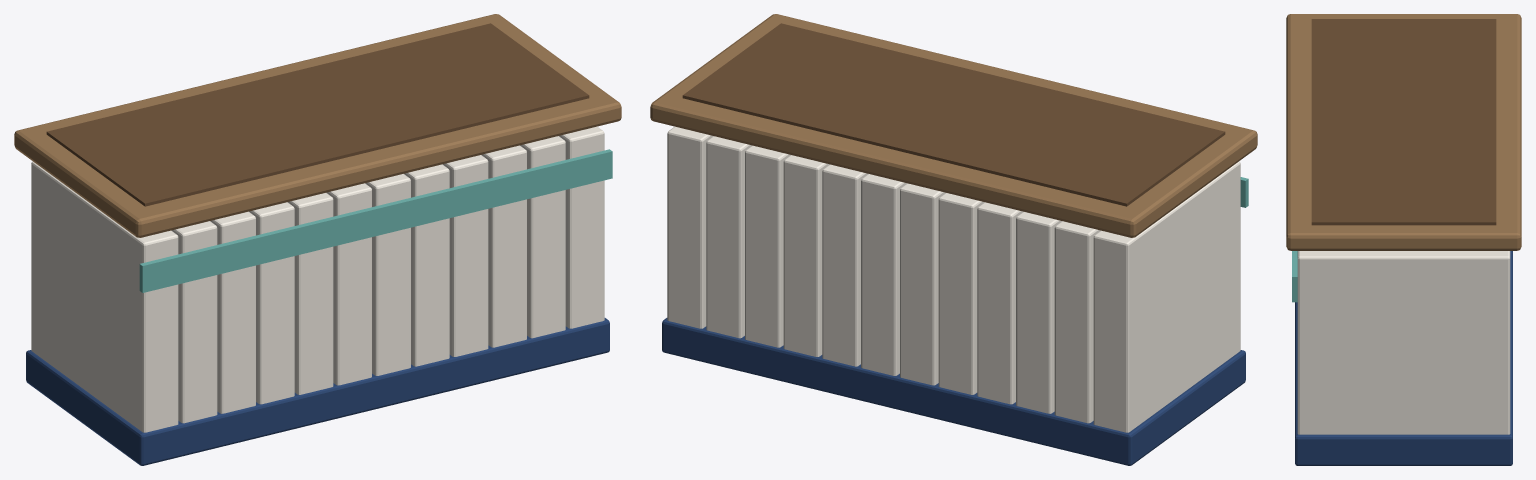
File: b_counter_teal.gltf
3 views of the same model, side by side, from view 1: azimuth 30°, elevation 25°; view 2: azimuth 150°, elevation 25°; view 3: azimuth 270°, elevation 25° (orthographic). The views are drawn at different scales.
Parts seen in each view (by area): view 1: b_counter_teal; view 2: b_counter_teal; view 3: b_counter_teal.
Boxes of the visible parts, x1,y1,x2,y2 form: b_counter_teal: (14, 14, 621, 465); b_counter_teal: (650, 14, 1257, 465); b_counter_teal: (1286, 14, 1521, 465).
Size of the model in its own units: 1.88 by 0.941 by 0.84.
Materials: 1 (1 with a texture image).
